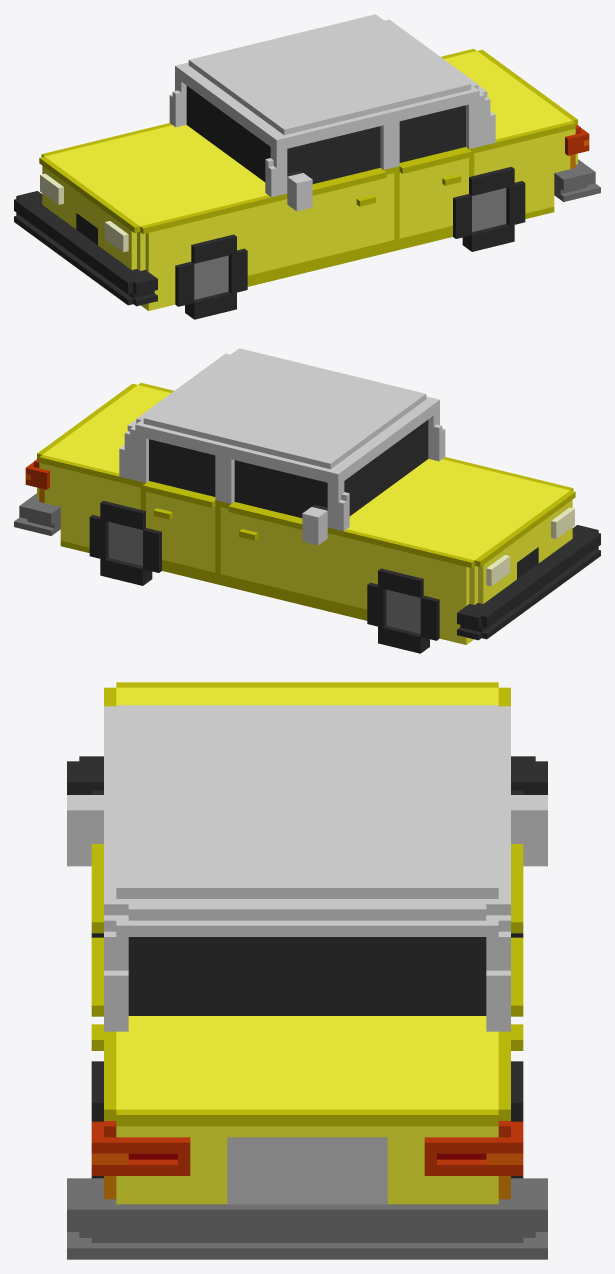
File: car-5.obj
3 renders of one model, top to bottom at view 1: azimuth 30°, elevation 25°; view 2: azimuth 150°, elevation 25°; view 3: azimuth 270°, elevation 25°, orthographic. The views are drawn at different scales.
Size of the model in its own units: 8.8 by 2.9 by 3.9.
1 material, 1 textured.
